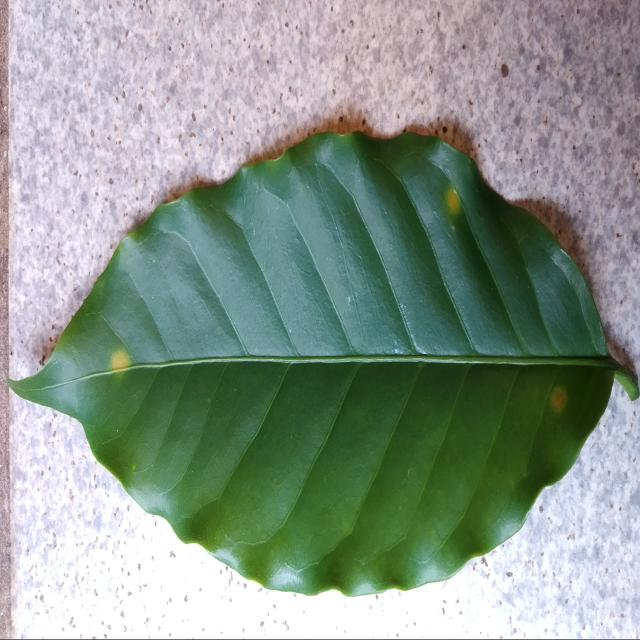Enfermedad-Roya: (11, 129, 638, 598)
